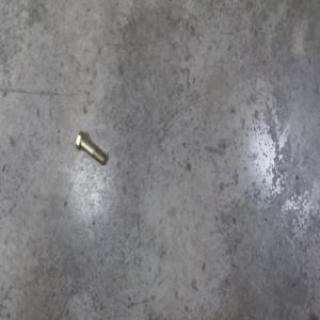Bolttrack_idkeyframe: (74, 129, 105, 167)
